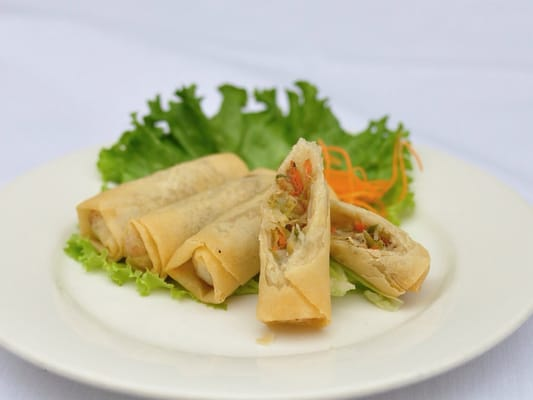soup: (72, 136, 340, 327)
